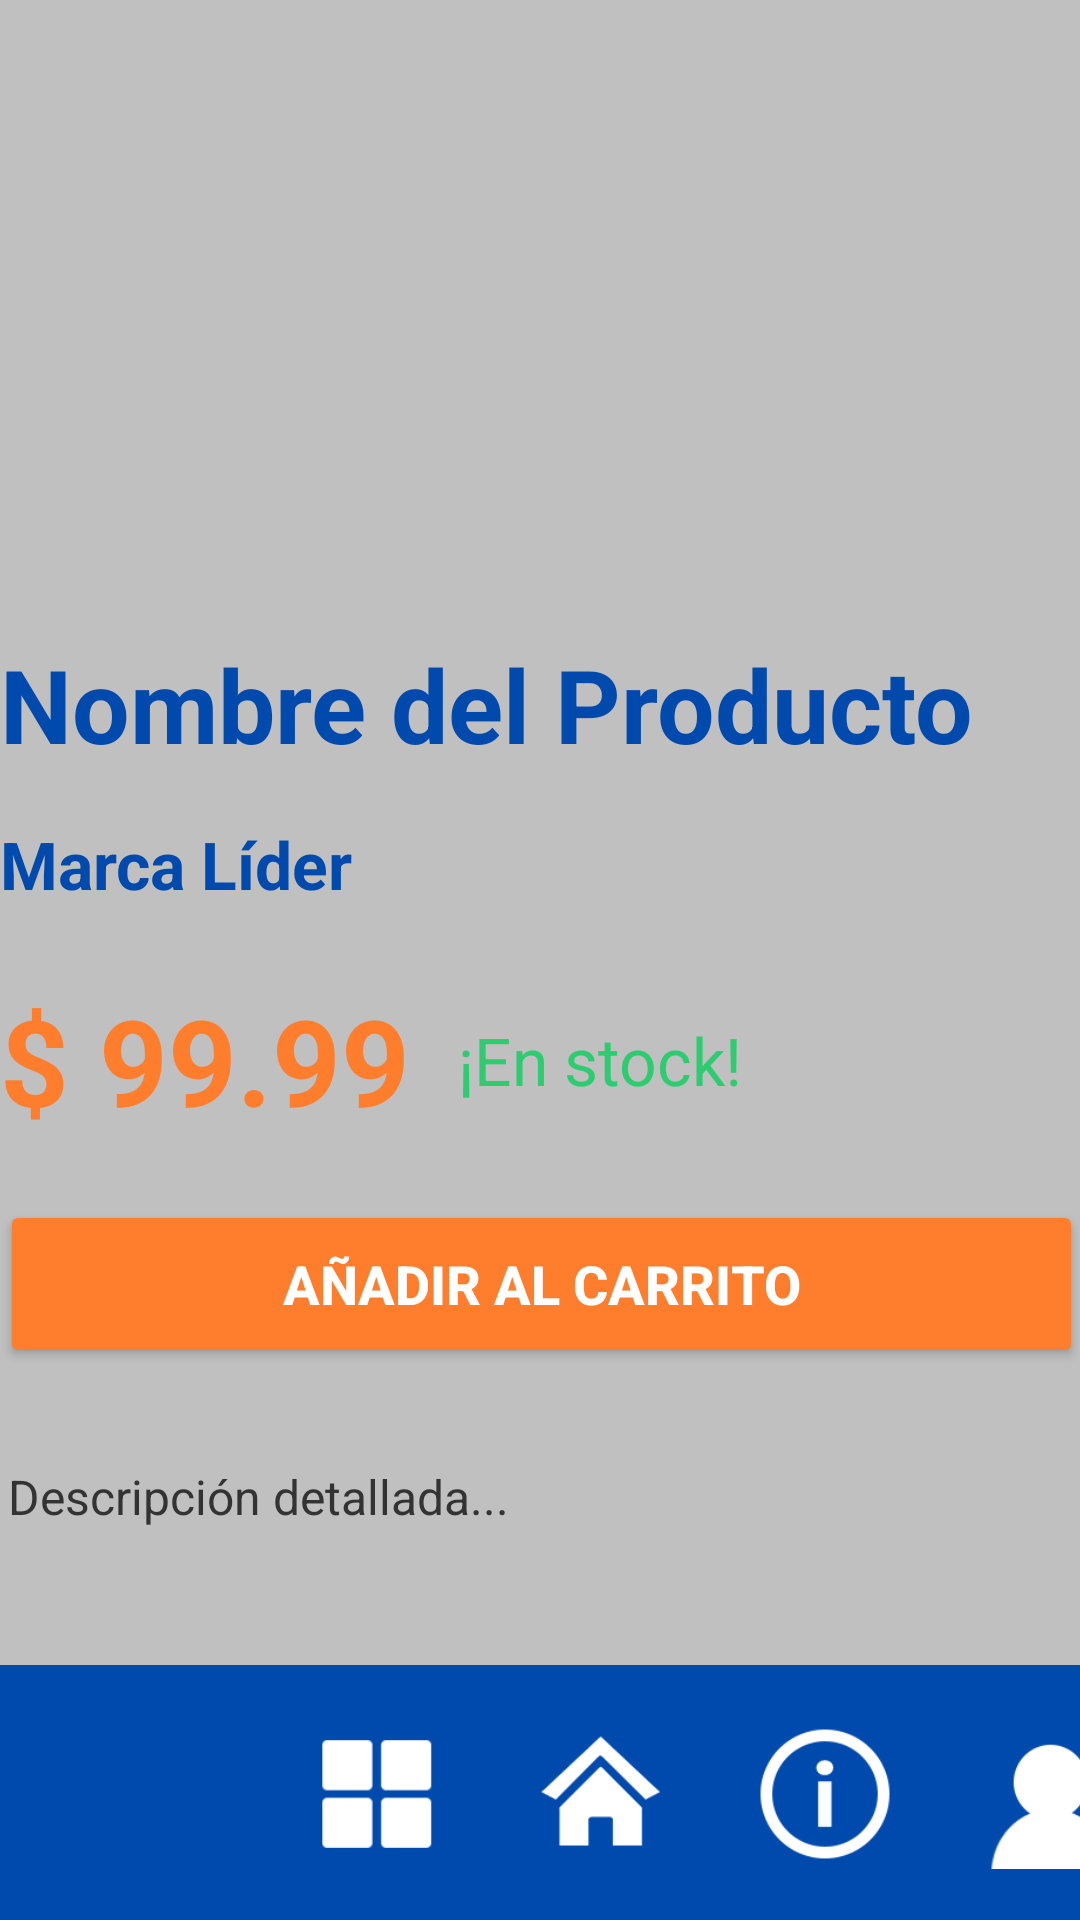

Where icons sit on this 1080 x 1920 app screen, as Rect(x1, y1, x2, y2):
abouticon: Rect(760, 1729, 890, 1859)
categoryicon: Rect(322, 1740, 432, 1848)
homeicon: Rect(541, 1736, 660, 1846)
